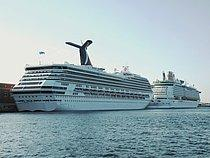Ship: (11, 38, 159, 116), (145, 67, 209, 114)
